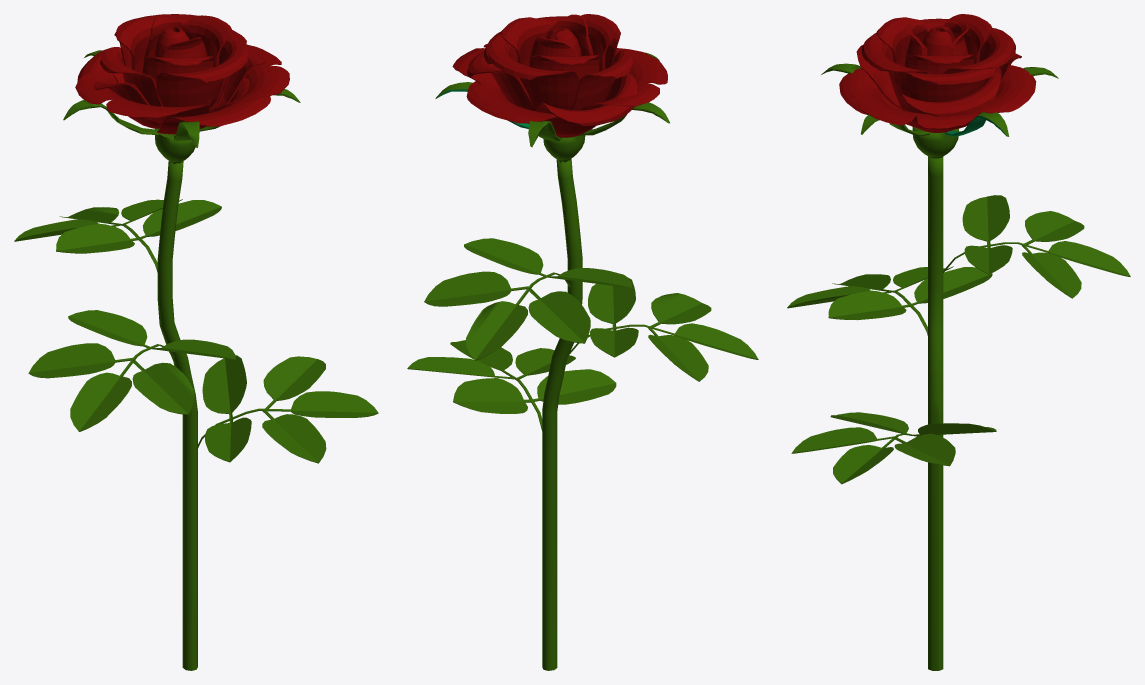
Rendered from rose.fbx.
The picture shows the model from 3 angles, left to right: view 1: azimuth 30°, elevation 25°; view 2: azimuth 150°, elevation 25°; view 3: azimuth 270°, elevation 25°; orthographic projection.
Visible parts, largest first — view 1: rose.dxf_001, Object001; view 2: rose.dxf_001, Object001; view 3: rose.dxf_001, Object001.
Boxes of the visible parts, left/top/right/bottom form: rose.dxf_001: left=14, top=50, right=378, bottom=670; Object001: left=75, top=14, right=289, bottom=147; rose.dxf_001: left=407, top=52, right=758, bottom=670; Object001: left=452, top=14, right=667, bottom=137; rose.dxf_001: left=787, top=63, right=1130, bottom=670; Object001: left=839, top=14, right=1036, bottom=132.
Size of the model in its own units: 8.37 by 17.04 by 8.36.
